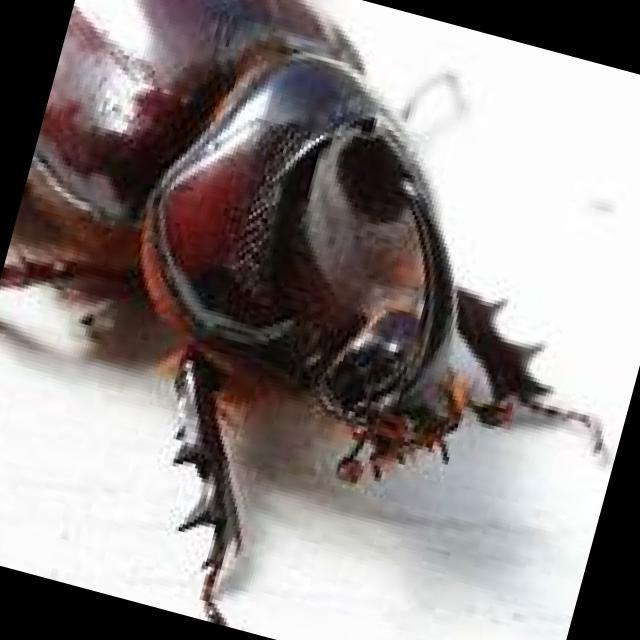Rhino-beetle: (30, 16, 599, 559)
